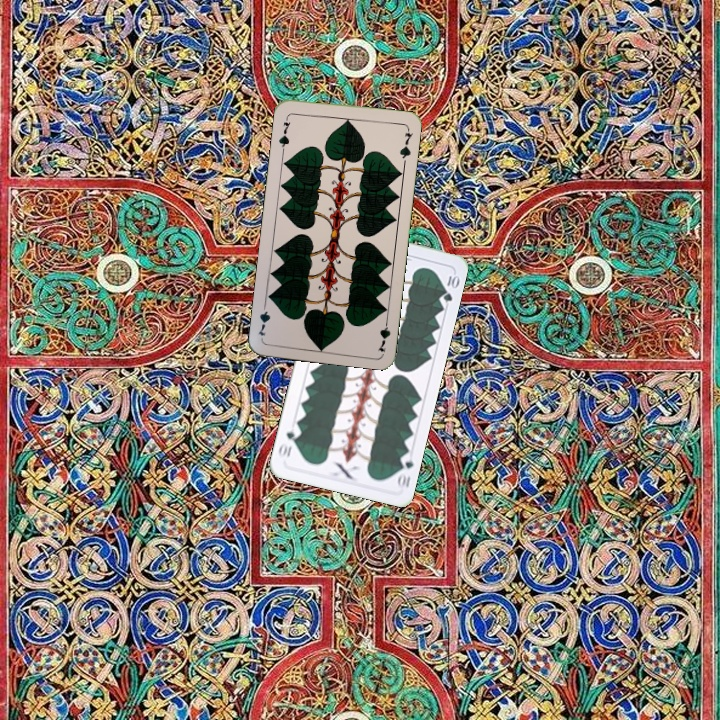G10: (393, 450, 416, 491)
G7: (374, 313, 393, 354), (275, 112, 293, 153)
